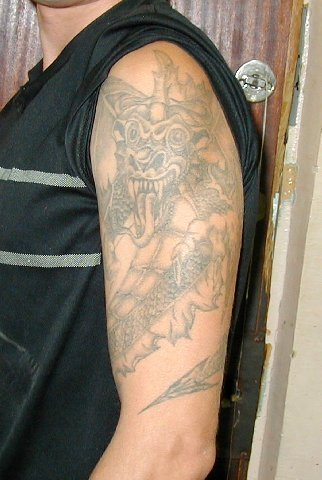tatu6_drakon: (91, 48, 259, 411)
